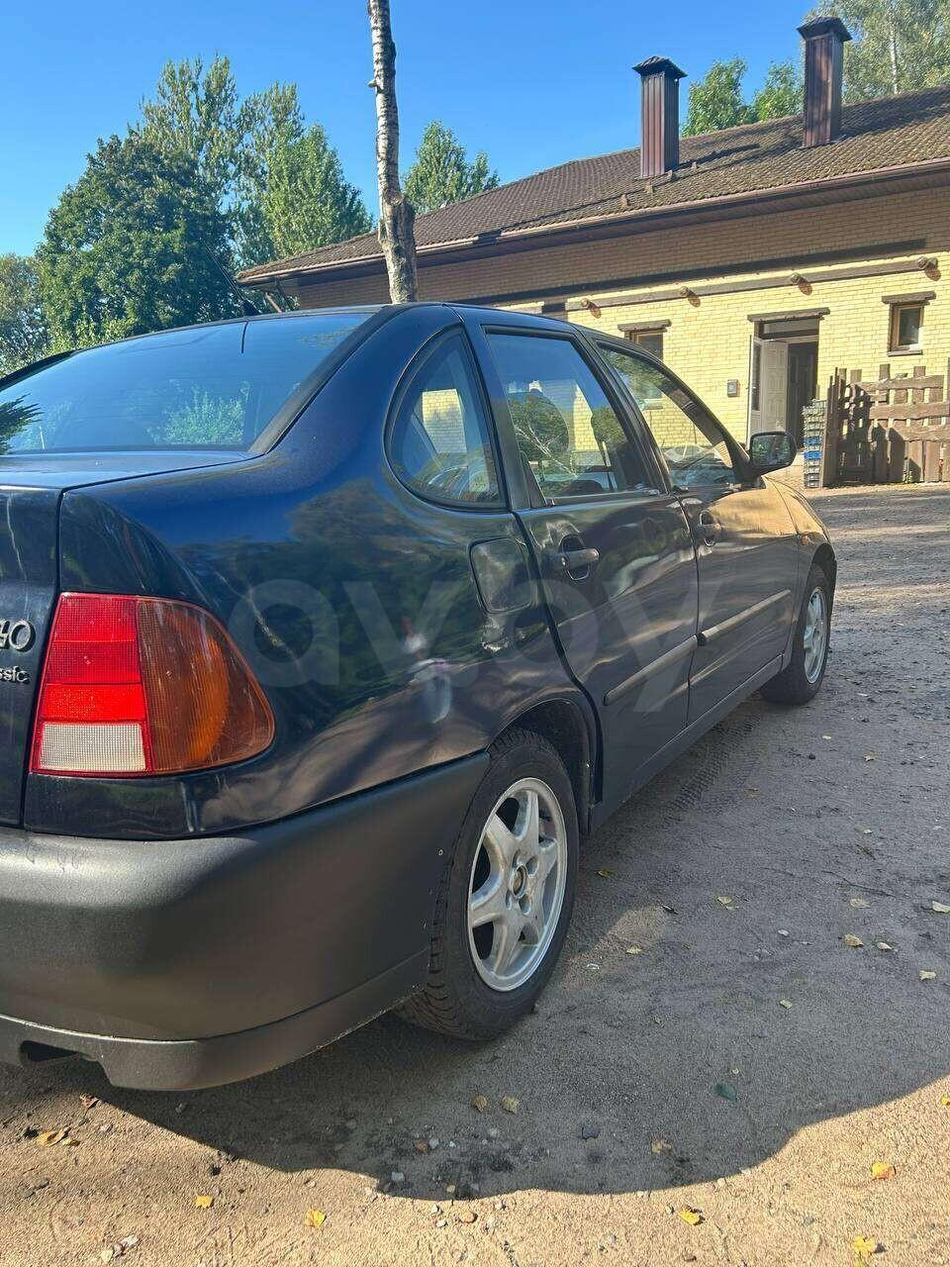Polo_1994-2002: (0, 301, 874, 1114)
